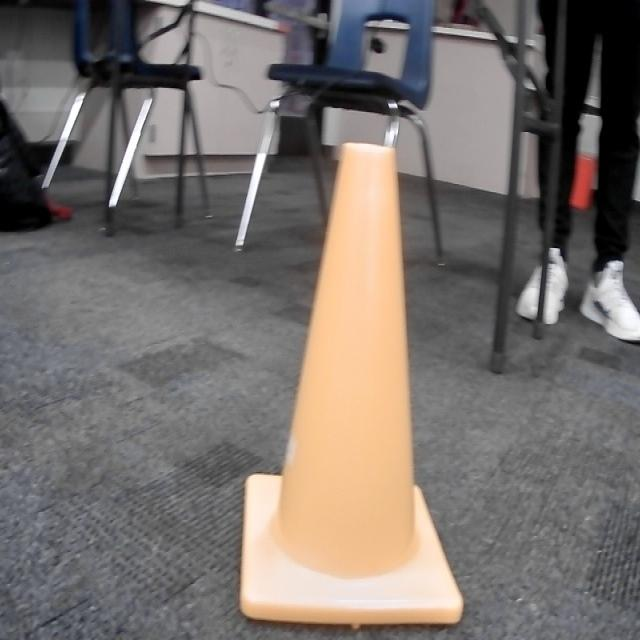cone: (237, 139, 465, 632)
